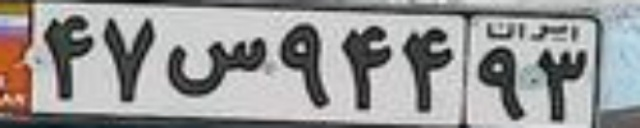3: (536, 48, 588, 122)
4: (398, 26, 456, 111), (43, 13, 97, 101), (338, 24, 393, 110)
7: (103, 14, 158, 103)
9: (276, 22, 329, 104), (473, 46, 525, 119)
sin: (167, 34, 268, 96)
